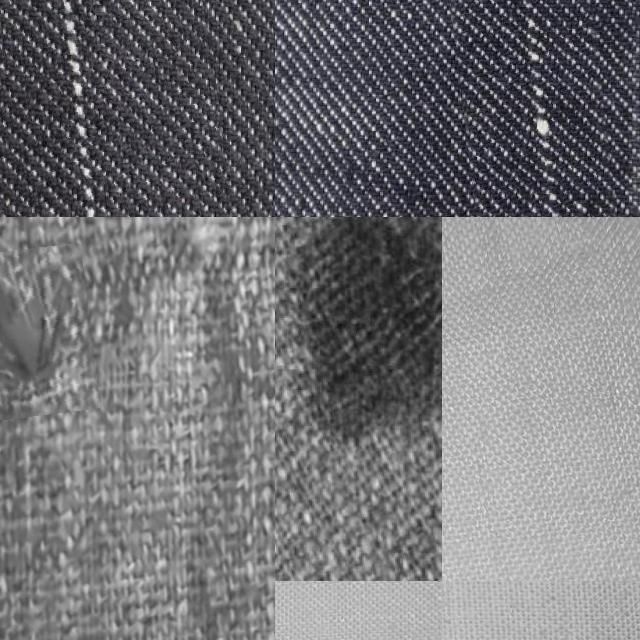other: (0, 246, 95, 422)
stains: (432, 0, 608, 217)
